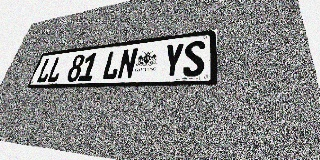1: (78, 52, 99, 81)
8: (65, 54, 86, 82)
L: (101, 50, 123, 80), (46, 56, 66, 83), (35, 57, 55, 83)
N: (116, 48, 138, 80)
S: (183, 40, 205, 77)
Y: (162, 42, 185, 78)
